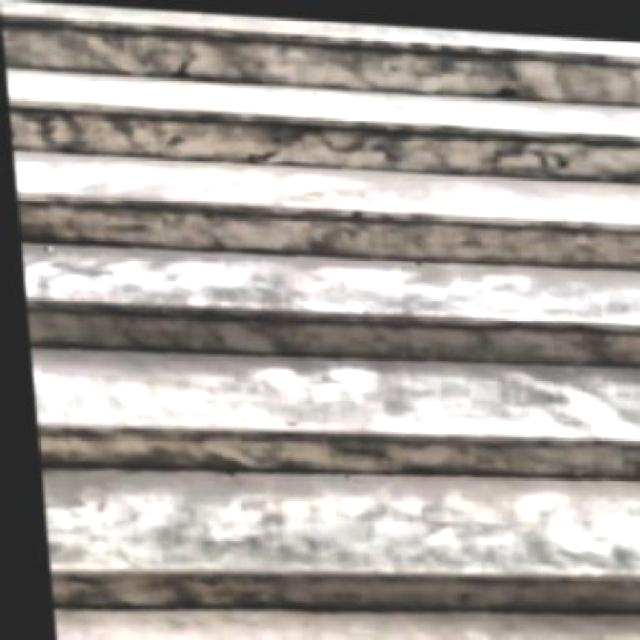stair: (8, 5, 638, 609)
